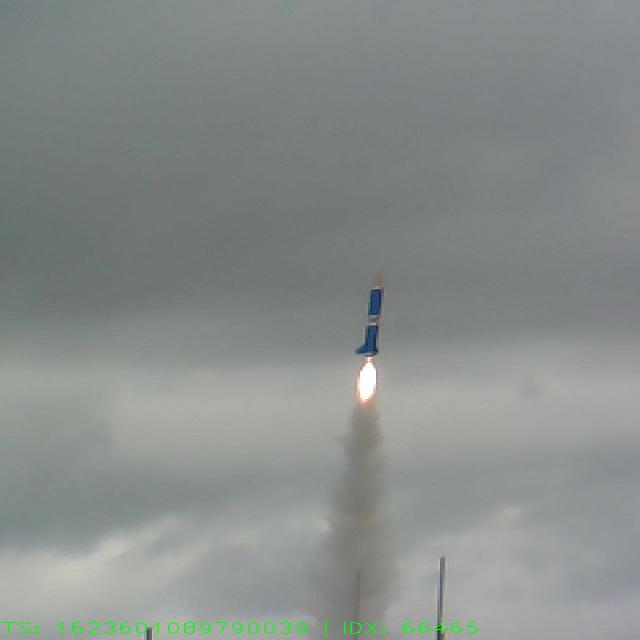Rocket: (353, 265, 387, 358)
